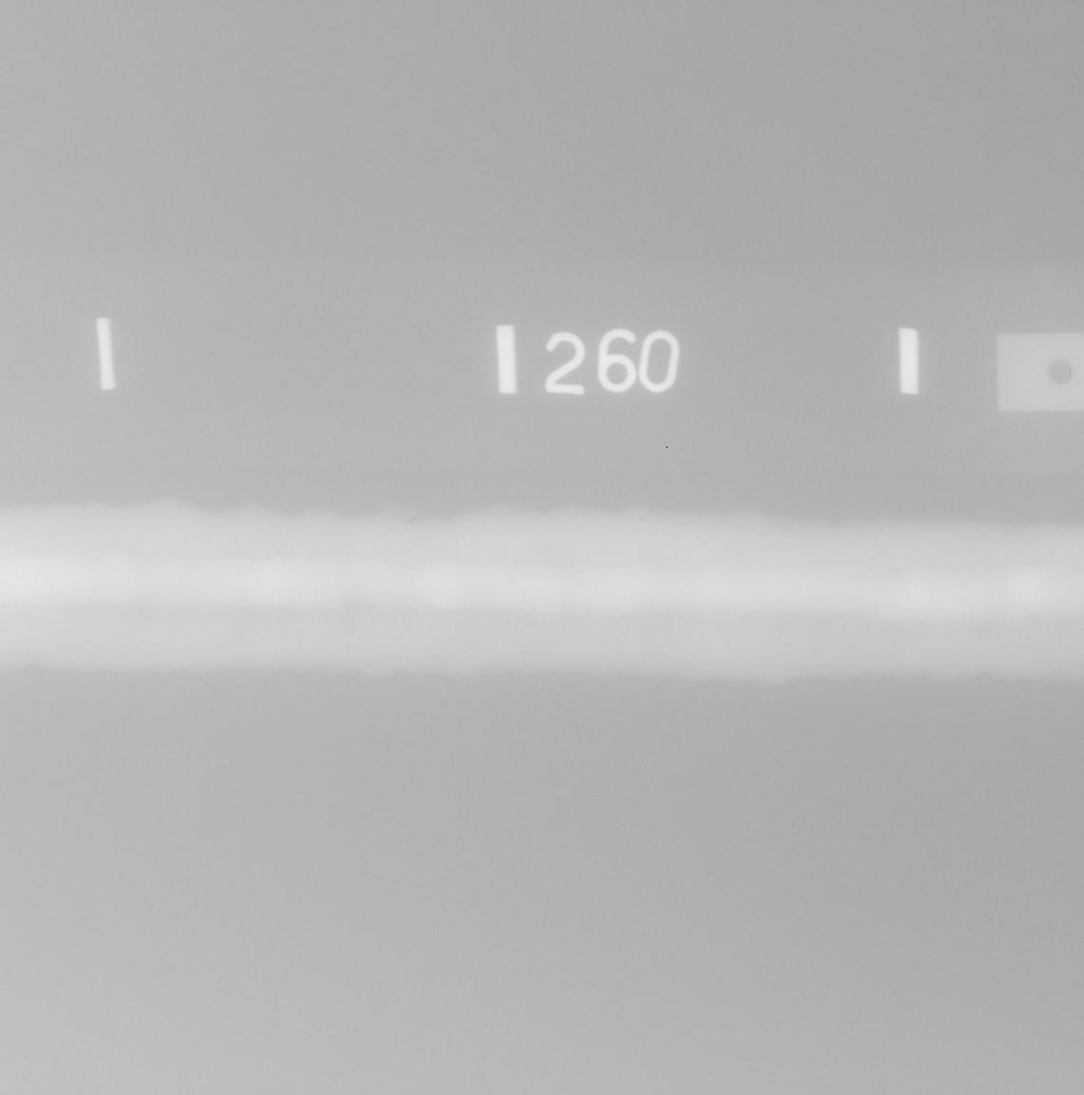Pore/Porosity: (61, 609, 66, 615), (544, 604, 550, 607), (545, 612, 548, 615), (1021, 573, 1024, 576)
